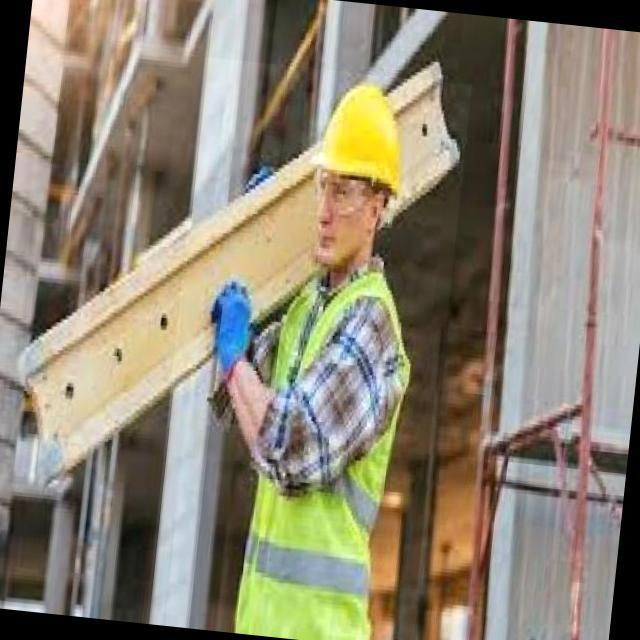Gloves: (203, 275, 261, 392)
Helmet: (308, 76, 414, 202)
Person: (192, 48, 447, 640)
Safety Vest: (227, 253, 424, 640)
